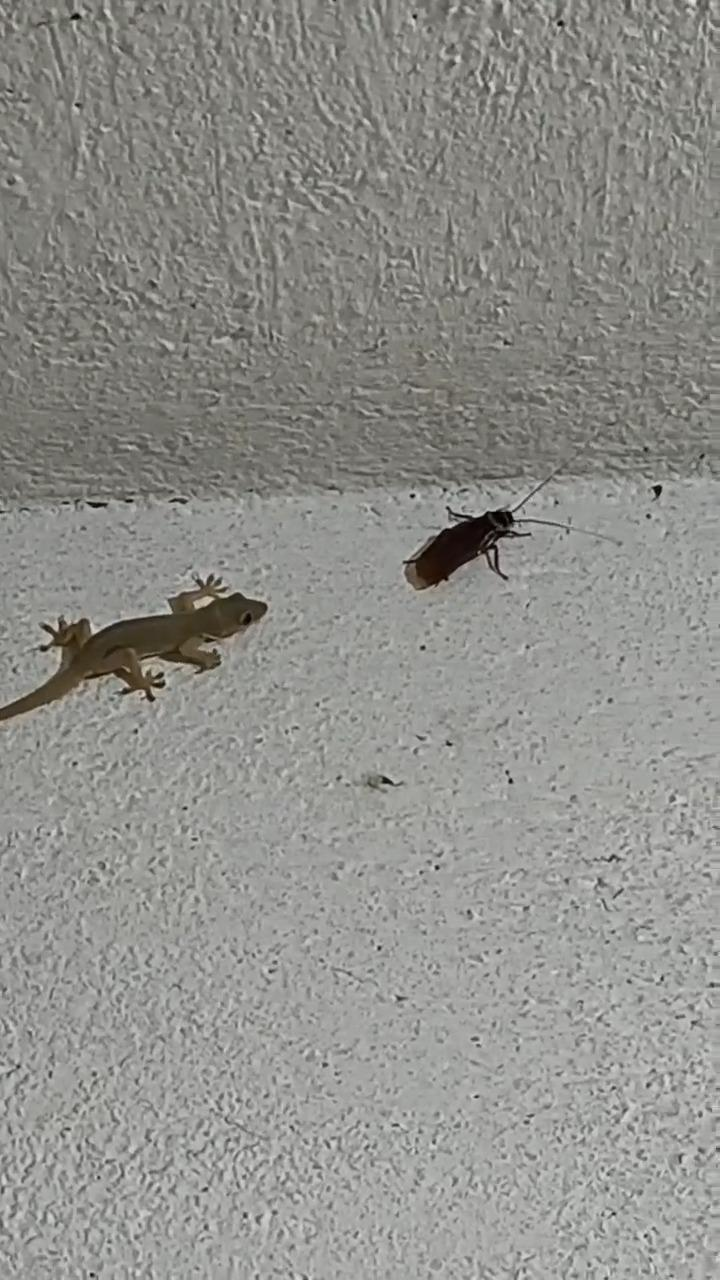cockroach: (388, 493, 573, 598)
lizard: (0, 570, 275, 726)
